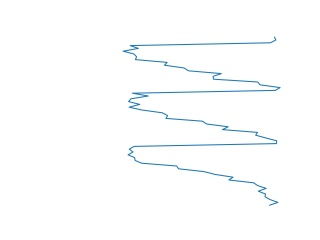distributaryMouthBar: (118, 33, 284, 208)
